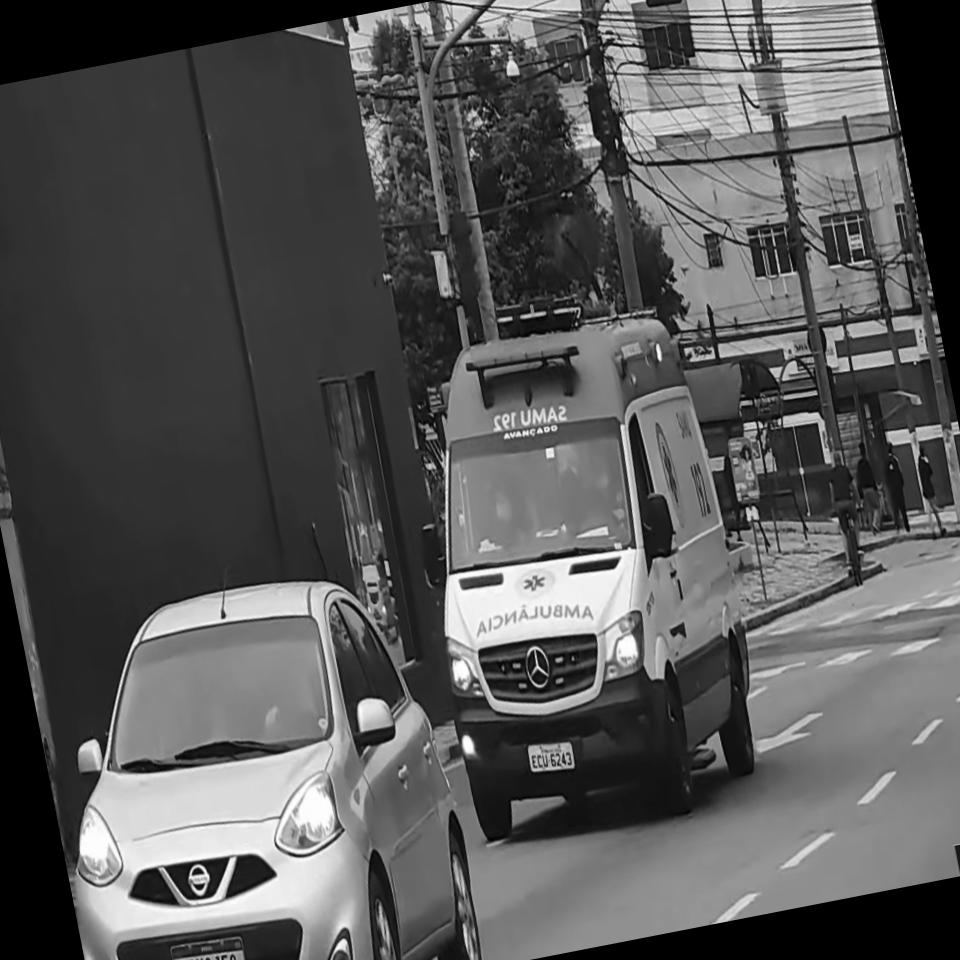bombeiro: (382, 296, 783, 860)
